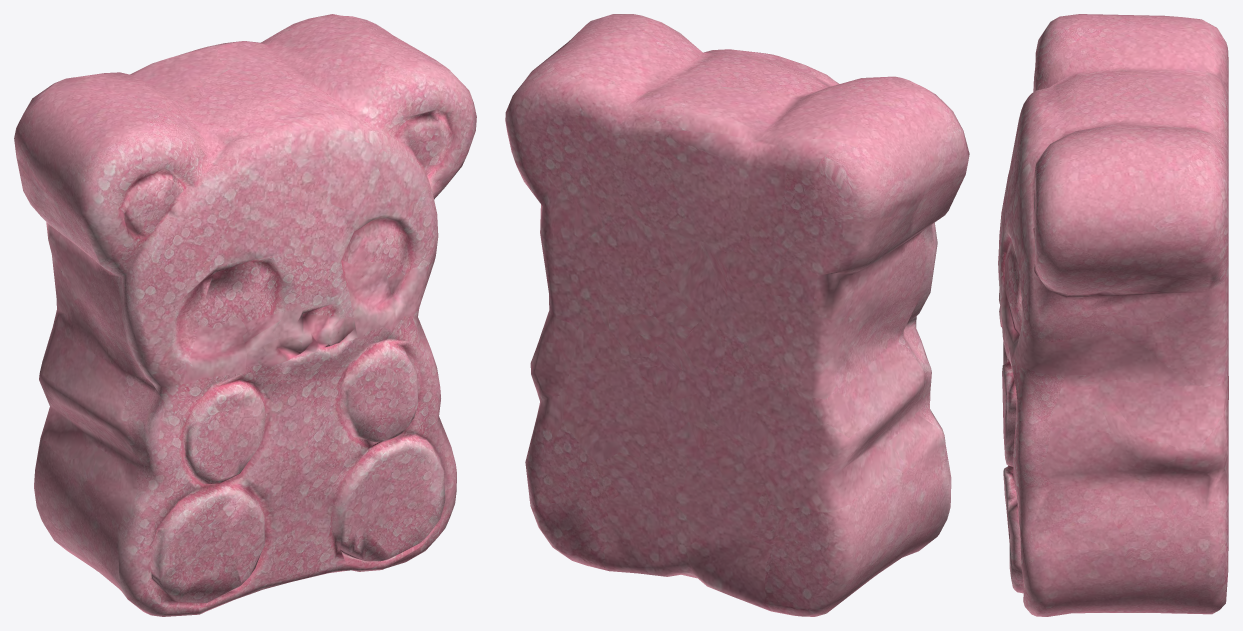
File: panda-lite.glb
3 views of the same model, side by side, from view 1: azimuth 30°, elevation 25°; view 2: azimuth 150°, elevation 25°; view 3: azimuth 270°, elevation 25° (orthographic). The views are drawn at different scales.
Size of the model in its own units: 1.6 by 1.9 by 0.8292.
1 material, 1 textured.
